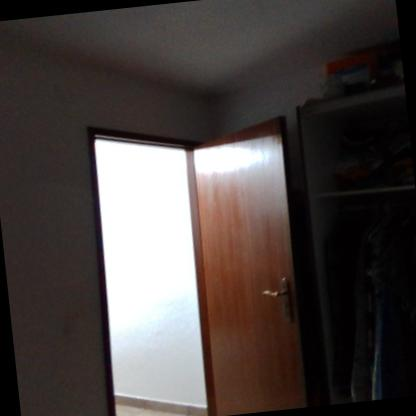open: (65, 101, 327, 415)
